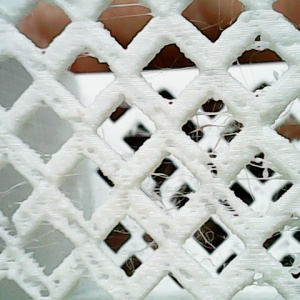3dpstringing: (106, 220, 170, 278), (227, 158, 292, 210), (185, 225, 246, 276), (136, 168, 196, 219), (186, 104, 246, 154), (181, 3, 248, 39), (22, 225, 58, 273), (58, 168, 93, 216), (94, 2, 156, 29), (4, 172, 34, 217), (229, 57, 257, 95), (271, 222, 299, 241)
3dpunderextrusion: (61, 217, 115, 285), (3, 257, 55, 299), (44, 94, 87, 131)
